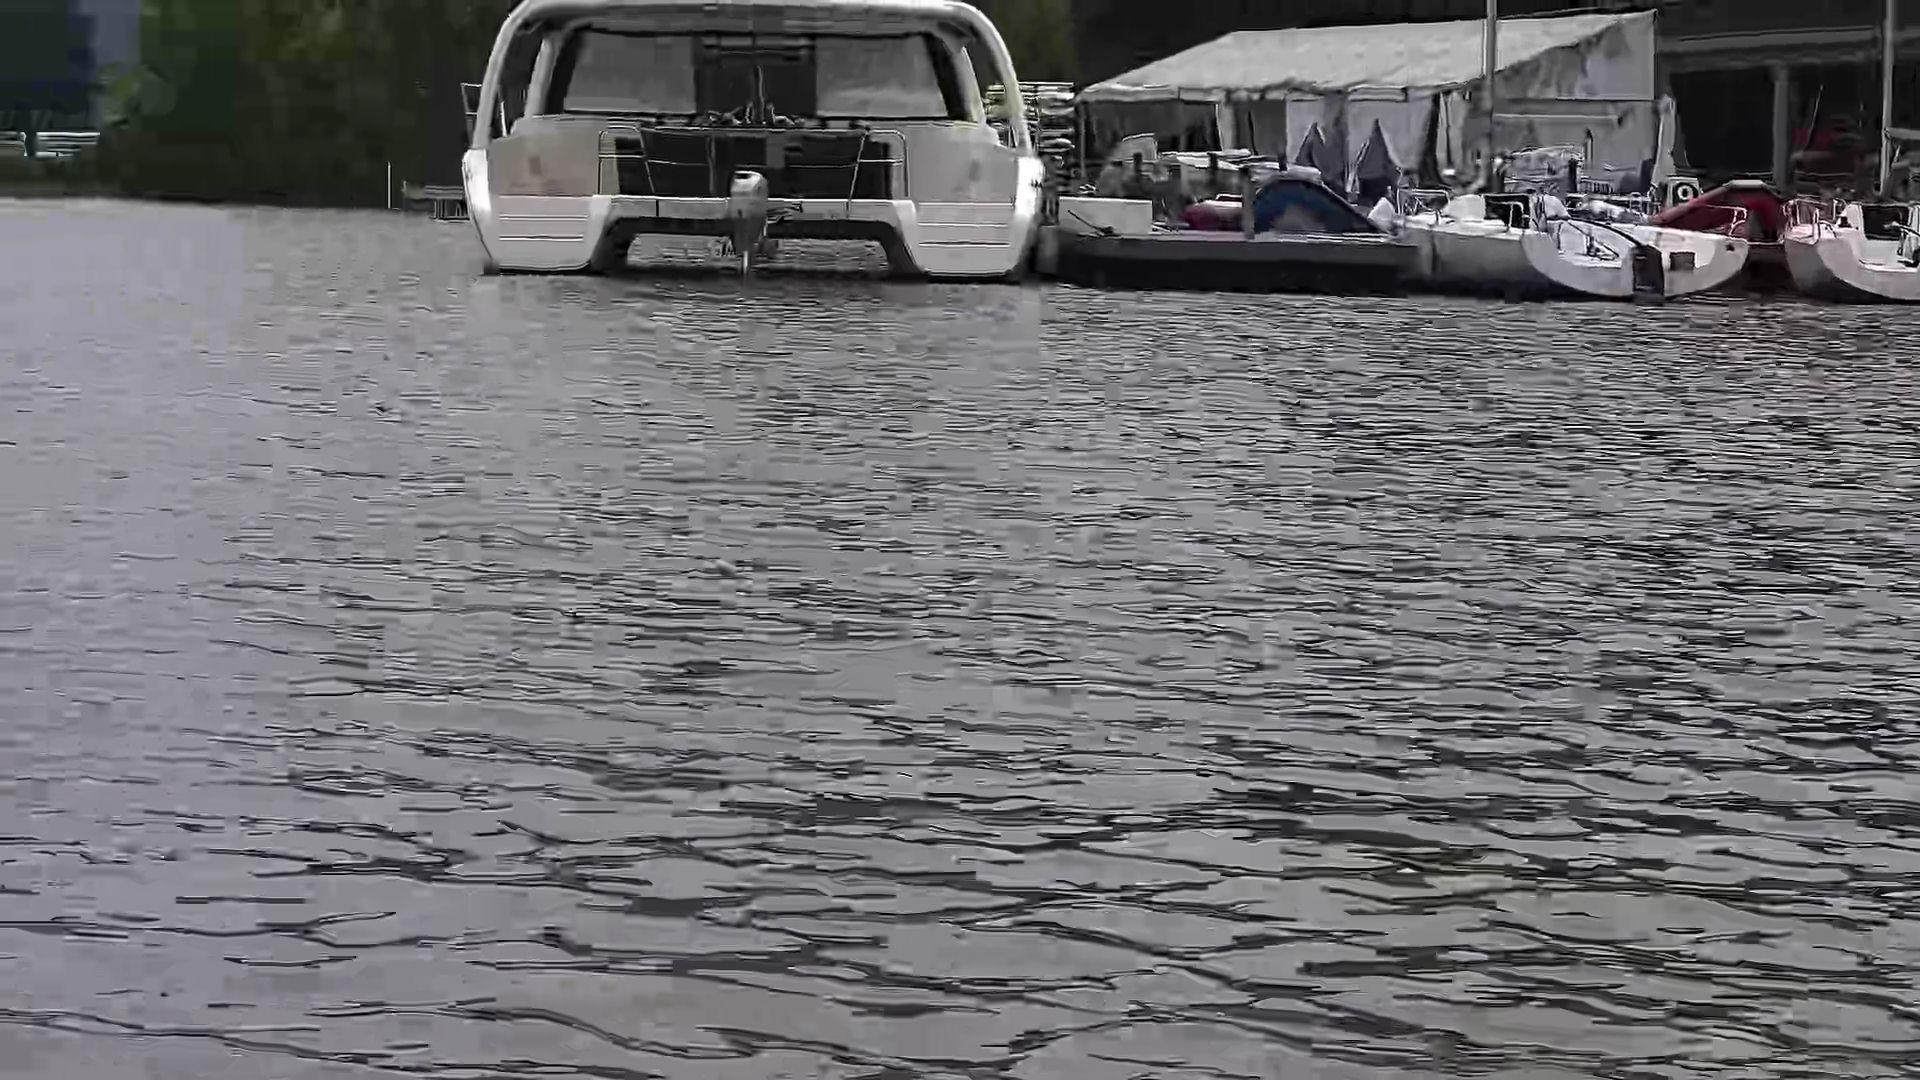boat: (467, 7, 1051, 287)
harbor: (1084, 32, 1904, 315)
